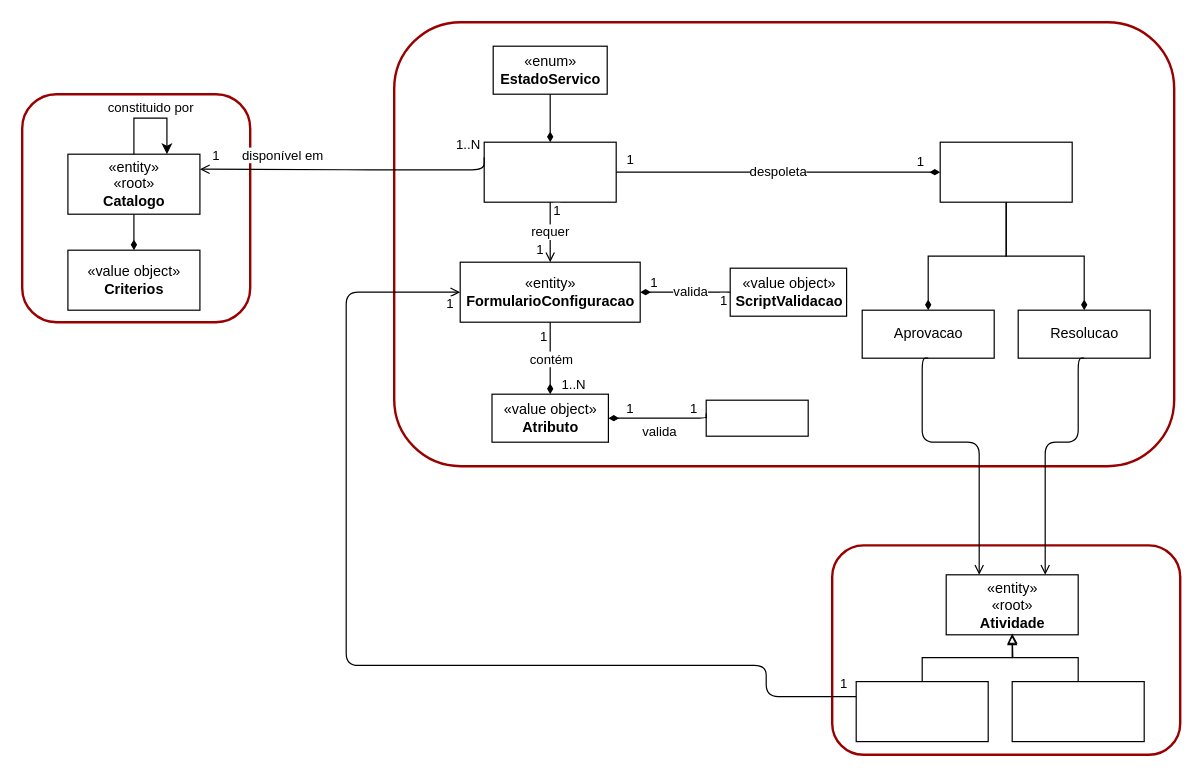
The diagram is 1201 pixels wide and 776 high, and some of its shapes have lost their labels. Each missing label, with the box of its shape:
Validador: (705, 399, 808, 436)
«entity» AtividadeAuto: (1011, 680, 1144, 742)
«entity» AtividadeManual: (855, 680, 988, 742)
«entity» FluxoAtividade: (939, 141, 1072, 202)
«entity» «root» Servico: (483, 141, 616, 202)
